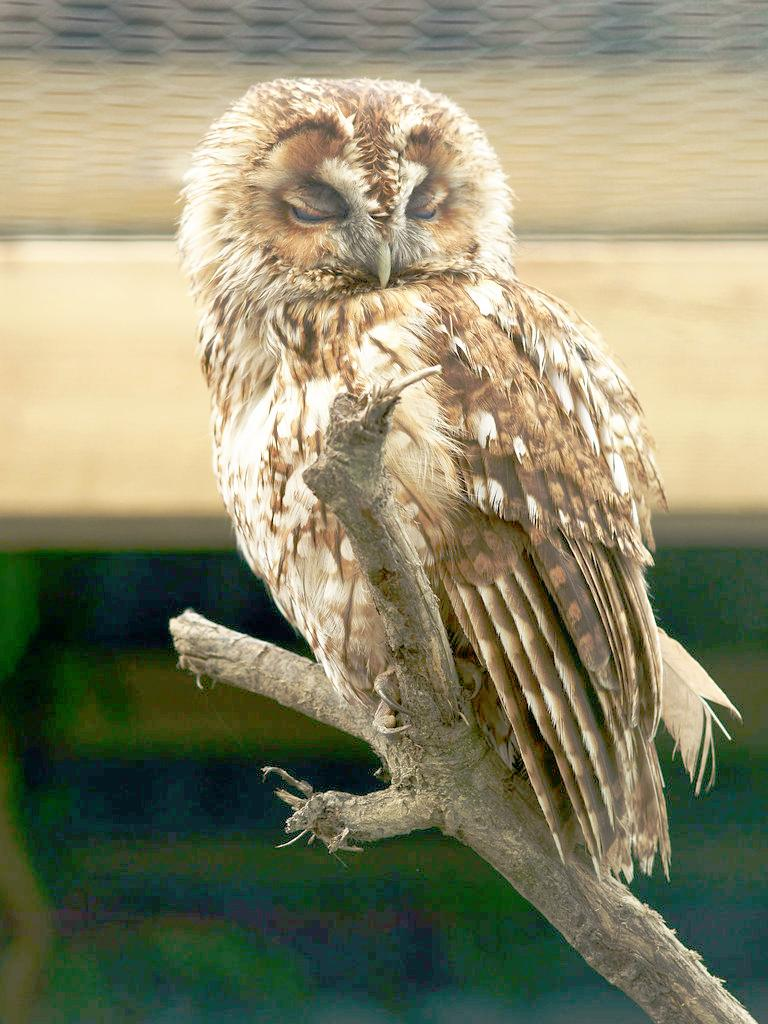Owl: (169, 74, 741, 890)
